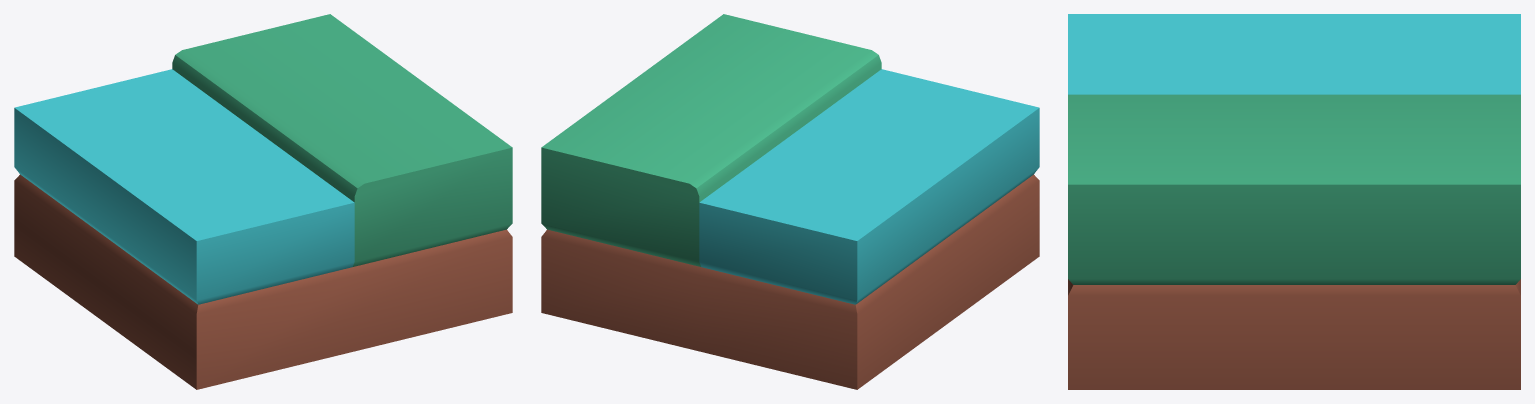
The model's file is kaykit-square-forest-waterstraight.glb.
The picture shows the model from 3 angles, left to right: view 1: azimuth 30°, elevation 25°; view 2: azimuth 150°, elevation 25°; view 3: azimuth 270°, elevation 25°; orthographic projection. The views are drawn at different scales.
Parts seen in each view (by area): view 1: square_forest_waterStraight; view 2: square_forest_waterStraight; view 3: square_forest_waterStraight.
Part boxes in pixels (<box>): square_forest_waterStraight: <box>14,14,512,389</box>; square_forest_waterStraight: <box>541,14,1039,389</box>; square_forest_waterStraight: <box>1068,14,1520,389</box>.
Size of the model in its own units: 2 by 1 by 2.
